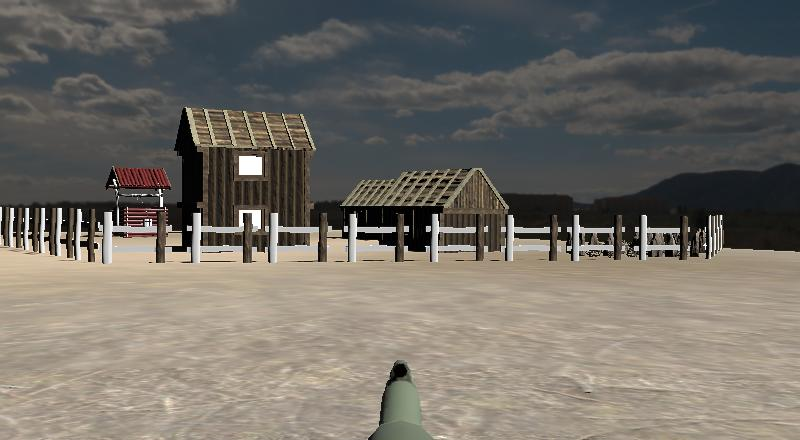House: (174, 105, 315, 249), (355, 168, 508, 248)
